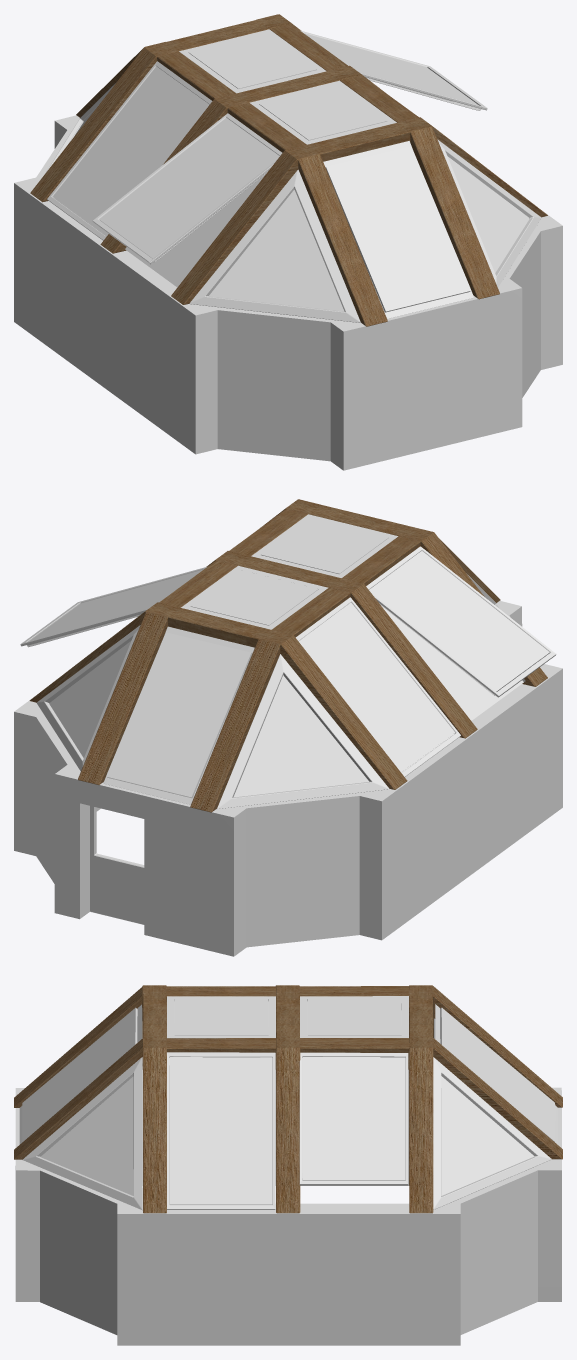
Rendered from roomSmall.fbx.
The picture shows the model from 3 angles, top to bottom: view 1: azimuth 30°, elevation 25°; view 2: azimuth 150°, elevation 25°; view 3: azimuth 270°, elevation 25°; orthographic projection. The views are drawn at different scales.
Visible parts, largest first — view 1: walls, roof_structure2, roof_structure1, glas.002, glas.001, glas.004, Cube.040, glas, Cube.041, Cube.037, glas.003, windowframe2 (+5 smaller); view 2: walls, roof_structure2, roof_structure1, glas.001, glas.002, glas.004, Cube.038, glas, Cube.039, walls.001, Cube.023, glas.003 (+6 smaller); view 3: walls, roof_structure2, glas.001, roof_structure1, glas.003, glas.002, glas, Cube.023, Cube.037, Cube.036, Cube.010, windowframe2 (+3 smaller).
Boxes of the visible parts, box(x1,y1,x2,y2) form: walls: box(14, 115, 562, 470); roof_structure2: box(30, 14, 547, 304); roof_structure1: box(76, 14, 499, 326); glas.002: box(325, 147, 470, 312); glas.001: box(53, 66, 266, 287); glas.004: box(99, 118, 279, 258); Cube.040: box(209, 189, 343, 311); glas: box(188, 33, 387, 140); Cube.041: box(189, 169, 360, 322); Cube.037: box(447, 156, 529, 272); glas.003: box(304, 33, 478, 105); windowframe2: box(179, 29, 396, 144); walls: box(14, 601, 562, 956); roof_structure2: box(29, 499, 547, 789); roof_structure1: box(78, 499, 500, 812); glas.001: box(298, 602, 525, 771); glas.002: box(106, 632, 252, 798); glas.004: box(369, 551, 549, 691); Cube.038: box(233, 675, 369, 797); glas: box(190, 518, 388, 625); Cube.039: box(217, 654, 389, 808); walls.001: box(90, 806, 144, 924); Cube.023: box(49, 641, 130, 757); glas.003: box(27, 569, 203, 645); walls: box(15, 1069, 561, 1345); roof_structure2: box(142, 985, 433, 1213); glas.001: box(169, 1057, 272, 1204); roof_structure1: box(14, 986, 562, 1159); glas.003: box(302, 1057, 405, 1180); glas.002: box(22, 1007, 555, 1141); glas: box(174, 998, 401, 1035); Cube.023: box(441, 1076, 534, 1195); Cube.037: box(41, 1076, 133, 1196); Cube.036: box(22, 1057, 142, 1210); Cube.010: box(433, 1057, 551, 1209); windowframe2: box(167, 996, 408, 1038).
Size of the model in its own units: 738 by 444 by 907.
